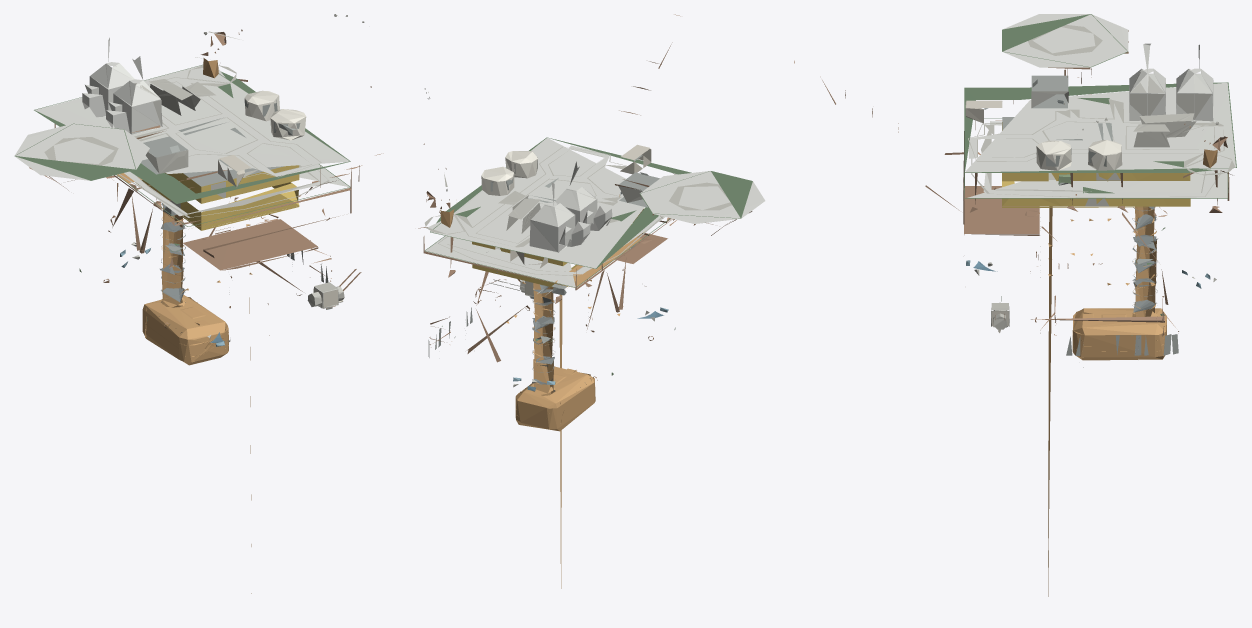
File: oilrig_2.glb
3 views of the same model, side by side, from view 1: azimuth 30°, elevation 25°; view 2: azimuth 150°, elevation 25°; view 3: azimuth 270°, elevation 25° (orthographic). The views are drawn at different scales.
Parts seen in each view (by area): view 1: scientist_cover_b_LOD0, oilrig_stairs_small_LOD0, oilrig_sat_tube_ladder_300_LOD0, ground_cloth_a_LOD0, creeping_plant_a_LOD0, level2_LOD0, wooden_crate_d_LOD0, oilrig_interior_LOD0, pipe_a_150_a_LOD0, oilrig_moon_pool_int_LOD0; view 2: scientist_cover_b_LOD0, oilrig_sat_tube_ladder_300_LOD0, ground_cloth_a_LOD0, creeping_plant_a_LOD0, oilrig_stairs_small_LOD0, oilrig_interior_LOD0, wooden_crate_d_LOD0, pipe_a_150_a_LOD0, level2_LOD0, oilrig_moon_pool_int_LOD0; view 3: scientist_cover_b_LOD0, ground_cloth_a_LOD0, oilrig_sat_tube_ladder_300_LOD0, oilrig_stairs_small_LOD0, creeping_plant_a_LOD0, level2_LOD0, wooden_crate_d_LOD0, oilrig_interior_LOD0, oilrig_moon_pool_int_LOD0, pipe_a_150_a_LOD0.
Part boxes in pixels (<box>): scientist_cover_b_LOD0: <box>14,37,349,216</box>; oilrig_stairs_small_LOD0: <box>29,29,383,335</box>; oilrig_sat_tube_ladder_300_LOD0: <box>116,58,252,593</box>; ground_cloth_a_LOD0: <box>44,14,364,341</box>; creeping_plant_a_LOD0: <box>15,64,350,321</box>; level2_LOD0: <box>135,165,299,230</box>; wooden_crate_d_LOD0: <box>141,99,332,309</box>; oilrig_interior_LOD0: <box>244,90,306,140</box>; pipe_a_150_a_LOD0: <box>218,155,343,307</box>; oilrig_moon_pool_int_LOD0: <box>159,203,201,332</box>; scientist_cover_b_LOD0: <box>425,138,765,287</box>; oilrig_sat_tube_ladder_300_LOD0: <box>440,194,641,588</box>; ground_cloth_a_LOD0: <box>424,88,731,387</box>; creeping_plant_a_LOD0: <box>425,137,752,375</box>; oilrig_stairs_small_LOD0: <box>418,14,752,380</box>; oilrig_interior_LOD0: <box>481,151,537,195</box>; wooden_crate_d_LOD0: <box>428,155,659,357</box>; pipe_a_150_a_LOD0: <box>510,144,651,296</box>; level2_LOD0: <box>472,209,644,287</box>; oilrig_moon_pool_int_LOD0: <box>530,192,621,391</box>; scientist_cover_b_LOD0: <box>965,14,1235,197</box>; ground_cloth_a_LOD0: <box>968,25,1234,329</box>; oilrig_sat_tube_ladder_300_LOD0: <box>1048,103,1217,596</box>; oilrig_stairs_small_LOD0: <box>794,30,1232,336</box>; creeping_plant_a_LOD0: <box>964,14,1236,335</box>; level2_LOD0: <box>1002,122,1190,207</box>; wooden_crate_d_LOD0: <box>984,75,1178,367</box>; oilrig_interior_LOD0: <box>1036,140,1122,170</box>; oilrig_moon_pool_int_LOD0: <box>1057,100,1157,312</box>; pipe_a_150_a_LOD0: <box>965,100,1008,332</box>.
Size of the model in its own units: 64.15 by 96.8 by 70.49.
